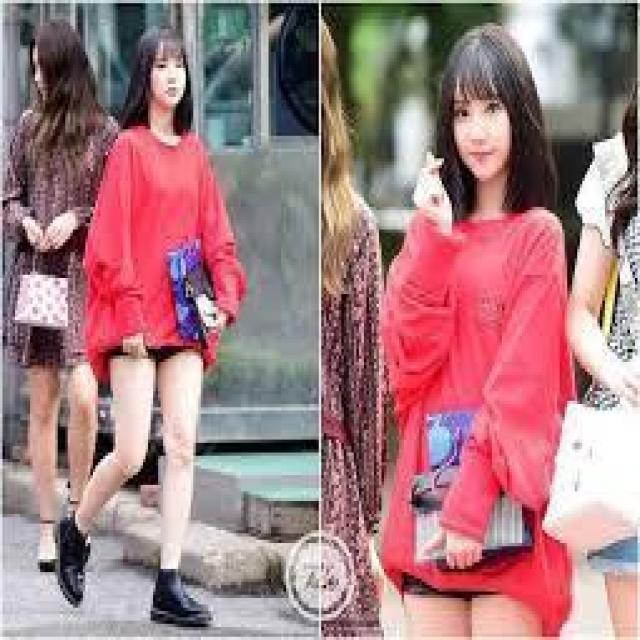dress: (0, 85, 125, 373)
sweater: (374, 195, 580, 616), (68, 115, 256, 373)
